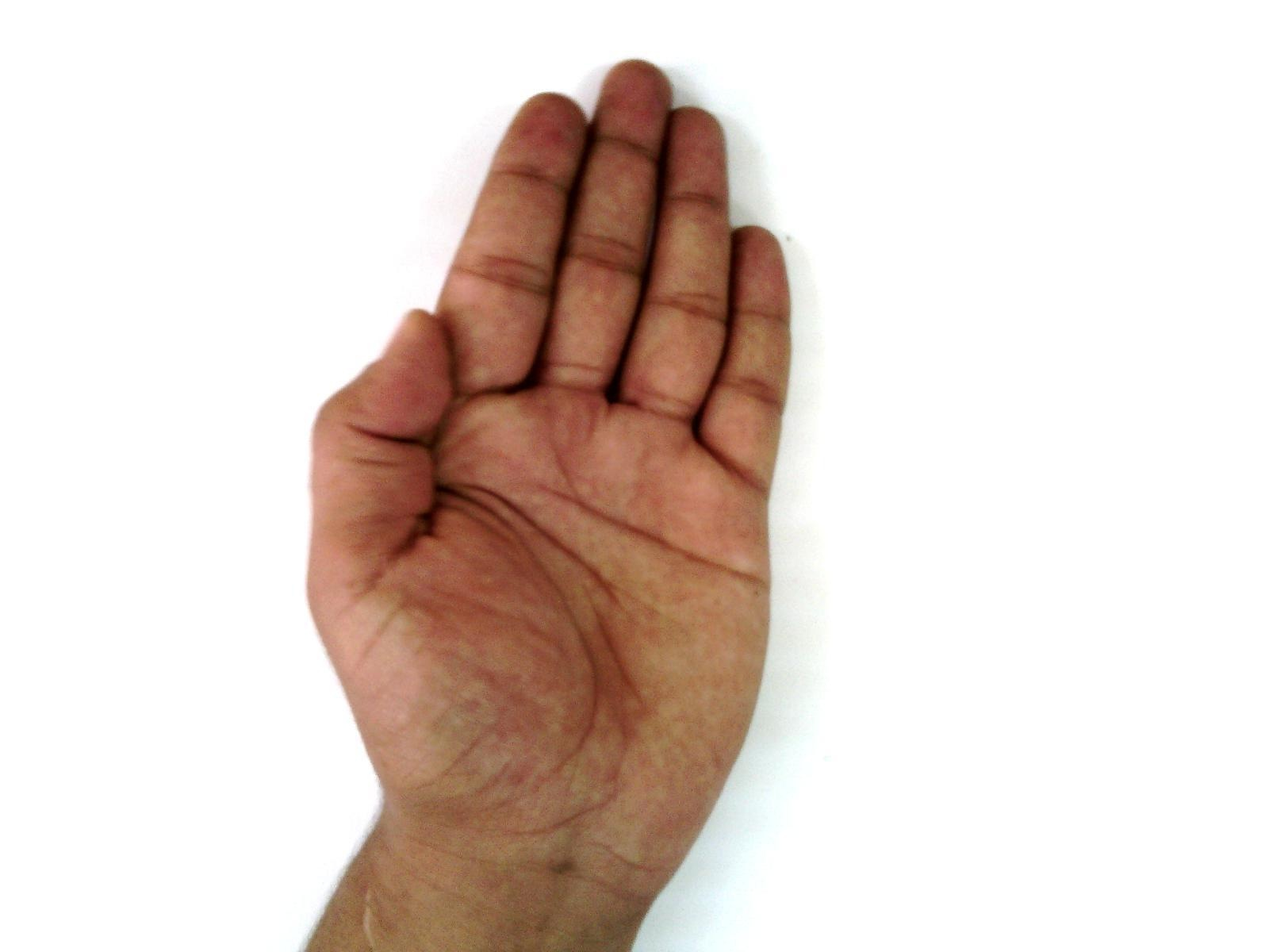open_palm: (298, 55, 794, 899)
